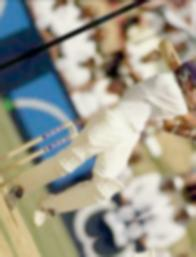batsman: (0, 36, 194, 257)
